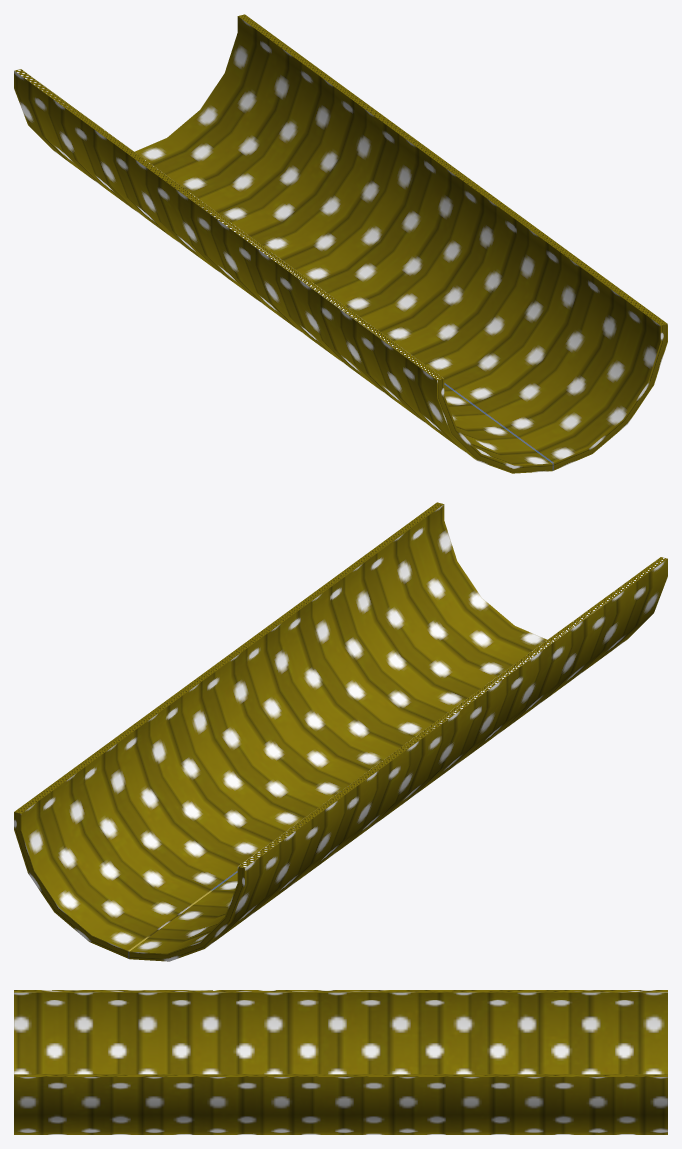
The model's file is Pipe_02.FBX.
The picture shows the model from 3 angles, top to bottom: view 1: azimuth 30°, elevation 25°; view 2: azimuth 150°, elevation 25°; view 3: azimuth 270°, elevation 25°; orthographic projection. The views are drawn at different scales.
Parts seen in each view (by area): view 1: PipeH_01; view 2: PipeH_01; view 3: PipeH_01.
Part boxes in pixels (left/top/right/bottom): PipeH_01: left=14, top=14, right=667, bottom=473; PipeH_01: left=14, top=502, right=667, bottom=961; PipeH_01: left=14, top=990, right=667, bottom=1134.
Size of the model in its own units: 28.73 by 14.16 by 91.18.
